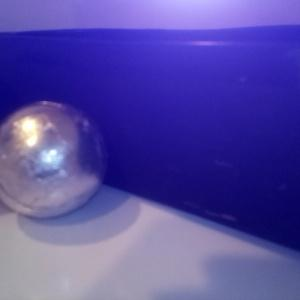alive_ball: (1, 100, 107, 219)
